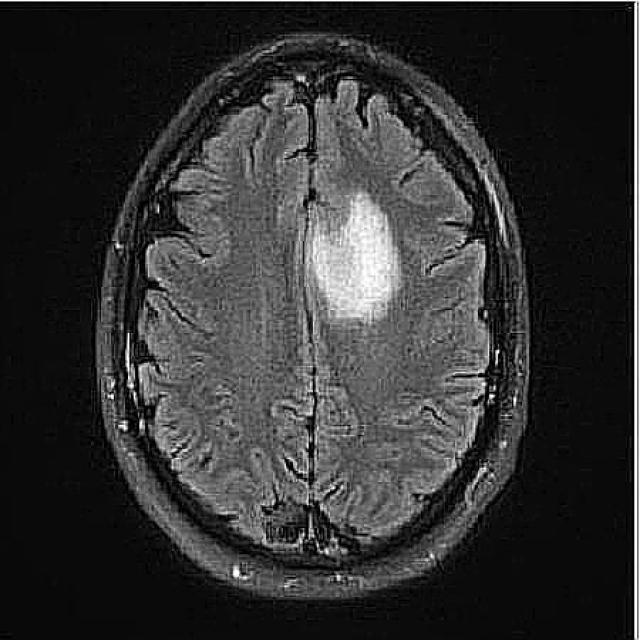Tumor-Cell: (277, 210, 435, 329)
